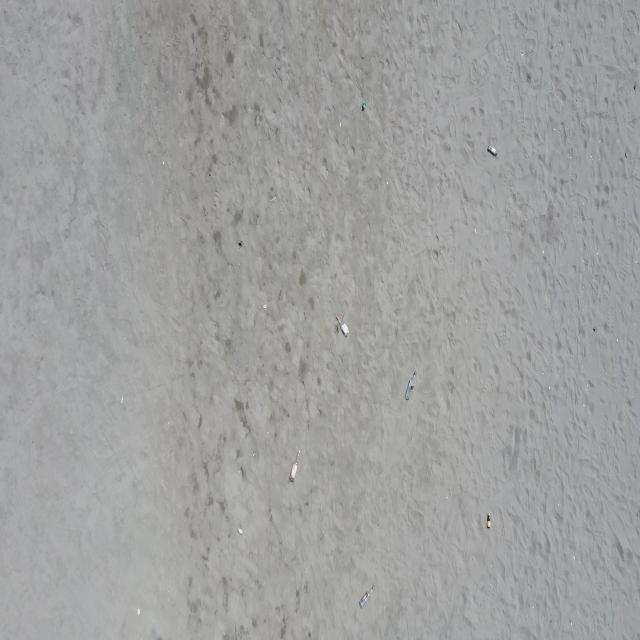glass: (359, 586, 375, 608), (290, 449, 300, 482), (336, 315, 349, 337), (406, 372, 416, 399), (488, 144, 498, 156), (487, 513, 491, 529), (238, 526, 244, 536), (362, 102, 366, 110)
